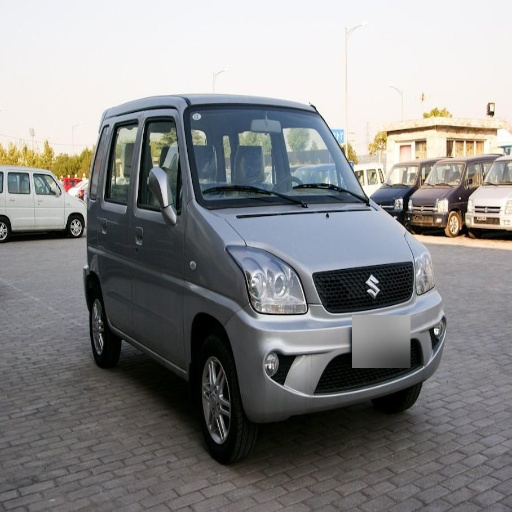front_bumper: (230, 263, 445, 422)
front_right_door: (132, 113, 181, 362)
front_right_light: (230, 248, 308, 315)
hood: (206, 206, 415, 273)
